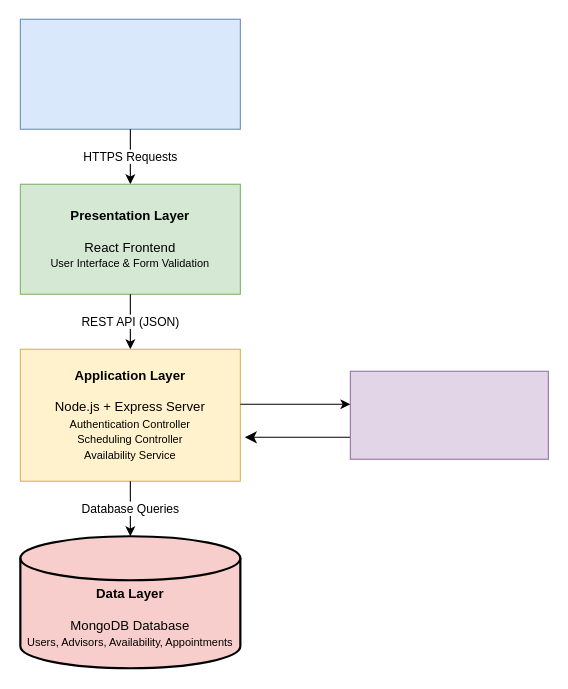
Some shapes in this 568 by 689 pixel diagram are drawn without their labels. The shapes that lost their labels are listed below. From the top down, each one's centre as x and y in pixels, then its label:
At pixel 129 73: "Client Layer Student / Advisor Browser Web Client (Chrome, Edge, etc.)".
At pixel 448 414: "GitHub OAuth (Passport Authentication)".
